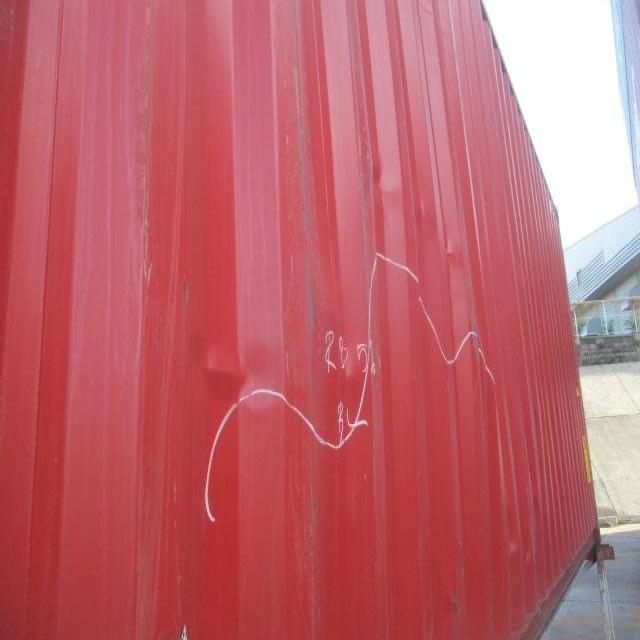dent: (183, 316, 296, 446), (370, 160, 468, 274)
